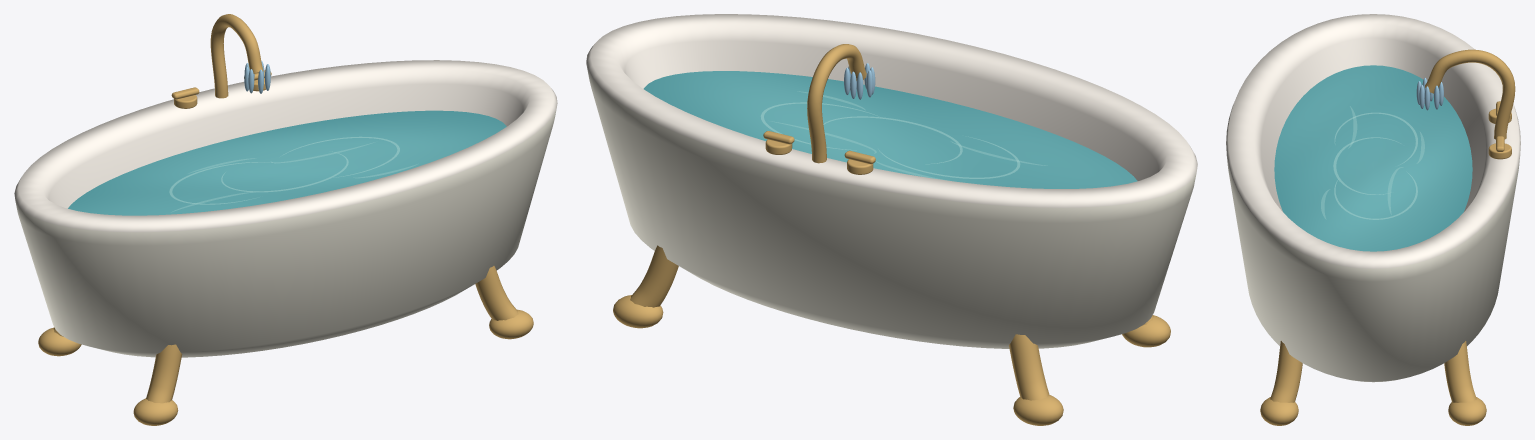
The model's file is bathroomBathClawfootCream.glb.
3 views of the same model, side by side, from view 1: azimuth 30°, elevation 25°; view 2: azimuth 150°, elevation 25°; view 3: azimuth 270°, elevation 25° (orthographic). The views are drawn at different scales.
Visible parts, largest first — view 1: Clawfoot bath shell, Recessed bath water, Bath gooseneck faucet, Curved clawfoot leg, Curved clawfoot leg.002, Clawfoot paw, Clawfoot paw.002, Clawfoot paw.001; view 2: Clawfoot bath shell, Recessed bath water, Bath gooseneck faucet, Curved clawfoot leg.001, Curved clawfoot leg.003, Clawfoot paw.001, Clawfoot paw.003, Clawfoot paw; view 3: Clawfoot bath shell, Recessed bath water, Bath gooseneck faucet, Curved clawfoot leg.002, Curved clawfoot leg.003, Clawfoot paw.002, Clawfoot paw.003.
Boxes of the visible parts, left/top/right/bottom form: Clawfoot bath shell: left=14, top=60, right=557, bottom=357; Recessed bath water: left=68, top=110, right=506, bottom=215; Bath gooseneck faucet: left=210, top=14, right=263, bottom=98; Curved clawfoot leg: left=146, top=344, right=182, bottom=403; Curved clawfoot leg.002: left=475, top=266, right=518, bottom=320; Clawfoot paw: left=133, top=398, right=178, bottom=425; Clawfoot paw.002: left=489, top=309, right=533, bottom=339; Clawfoot paw.001: left=38, top=327, right=81, bottom=356; Clawfoot bath shell: left=586, top=14, right=1197, bottom=348; Recessed bath water: left=643, top=71, right=1137, bottom=188; Bath gooseneck faucet: left=807, top=44, right=866, bottom=163; Curved clawfoot leg.001: left=1009, top=334, right=1049, bottom=400; Curved clawfoot leg.003: left=630, top=245, right=678, bottom=307; Clawfoot paw.001: left=1013, top=395, right=1063, bottom=425; Clawfoot paw.003: left=613, top=295, right=663, bottom=328; Clawfoot paw: left=1122, top=315, right=1170, bottom=347; Clawfoot bath shell: left=1226, top=14, right=1520, bottom=382; Recessed bath water: left=1274, top=65, right=1472, bottom=251; Bath gooseneck faucet: left=1425, top=49, right=1515, bottom=139; Curved clawfoot leg.002: left=1270, top=341, right=1302, bottom=402; Curved clawfoot leg.003: left=1444, top=341, right=1476, bottom=402; Clawfoot paw.002: left=1260, top=397, right=1298, bottom=425; Clawfoot paw.003: left=1448, top=397, right=1486, bottom=425.
Size of the model in its own units: 2.46 by 1.31 by 1.22.
